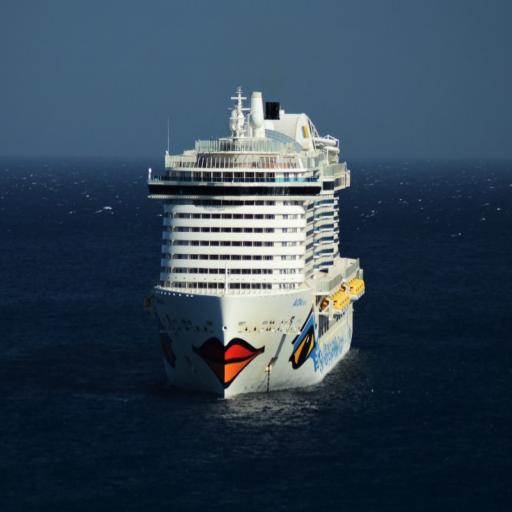cruises: (143, 90, 371, 410)
